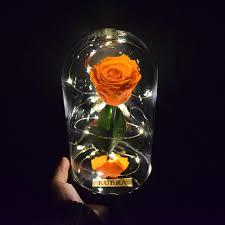Rose: (87, 53, 143, 107)
